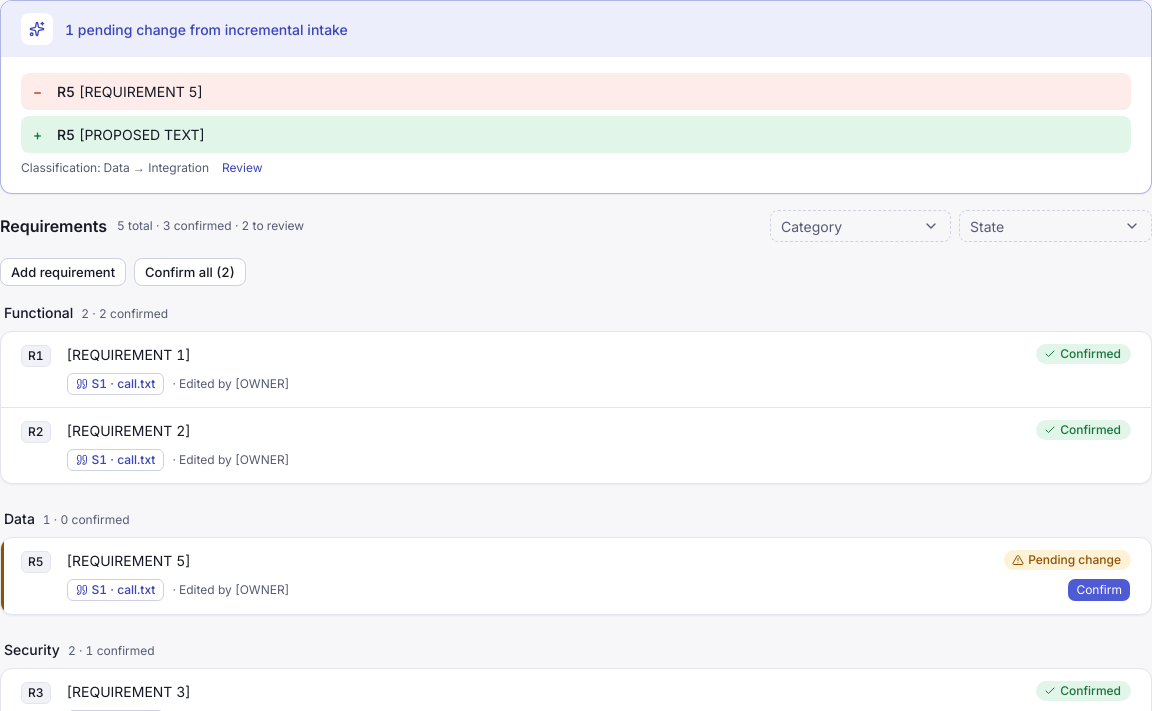
Test: the redesigned tab › a filter that leaves nothing says so, and Clear filters shows every row
The image size is (1152, 711).
Select "Category: Security" in the dropdown named "Category": (860, 226) [770,210,951,242]
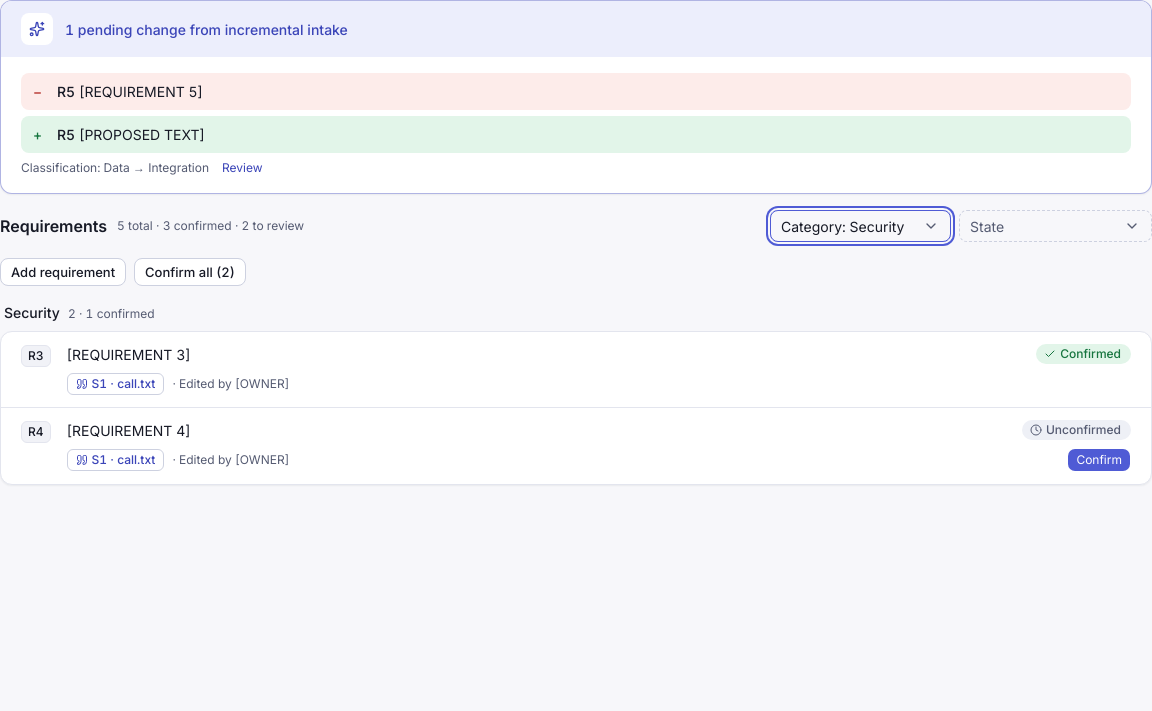
Select "State: Pending change" in the dropdown named "State": (1056, 226) [959,210,1151,242]
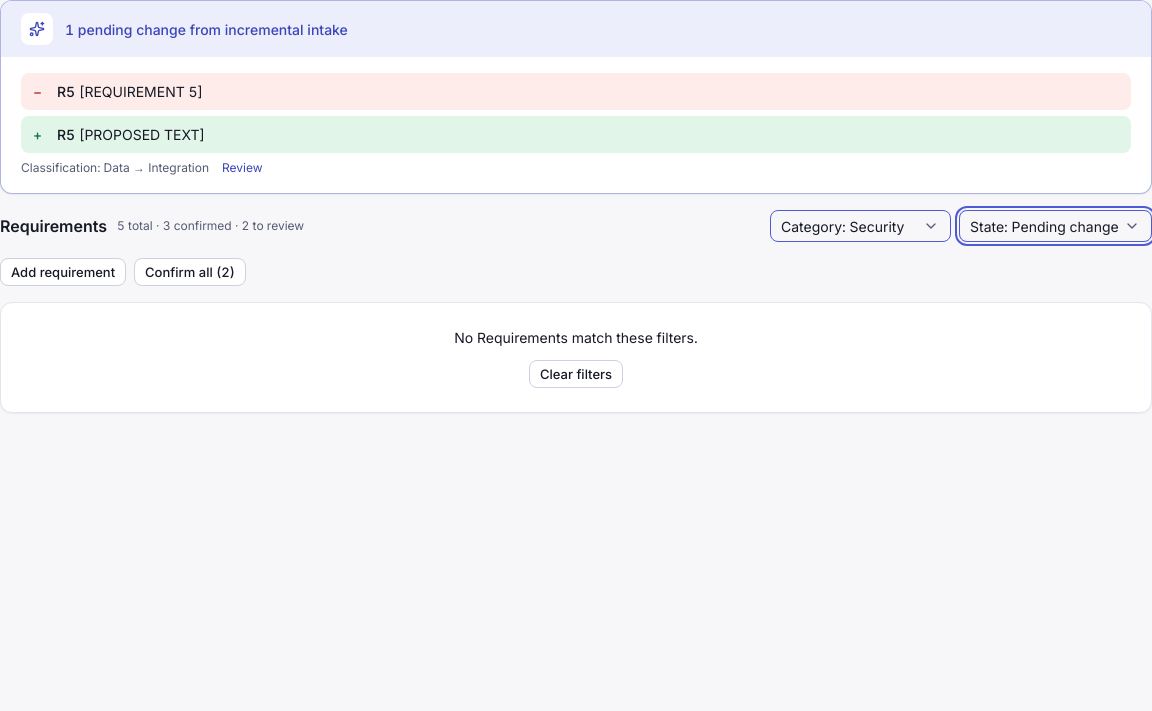
Now the text "No Requirements match these filters." is shown, box [454,327,698,348]
Click the button "Clear filters": (576, 374) [529,360,623,388]
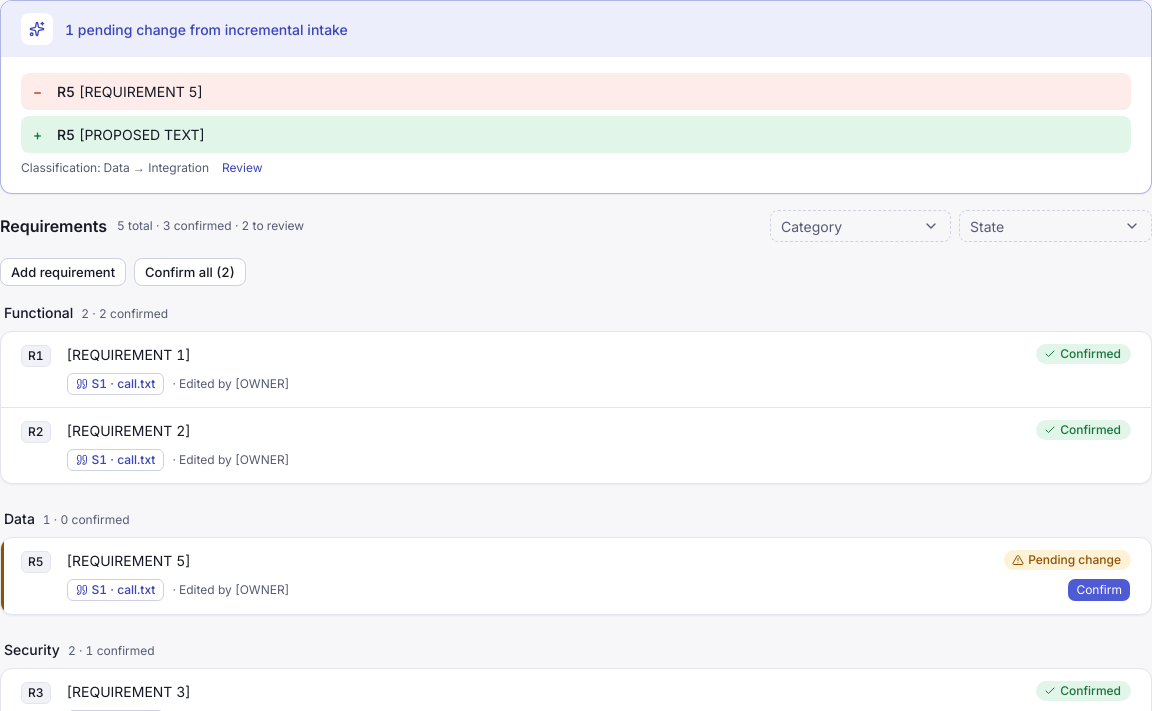
Now the number of rows is 5
